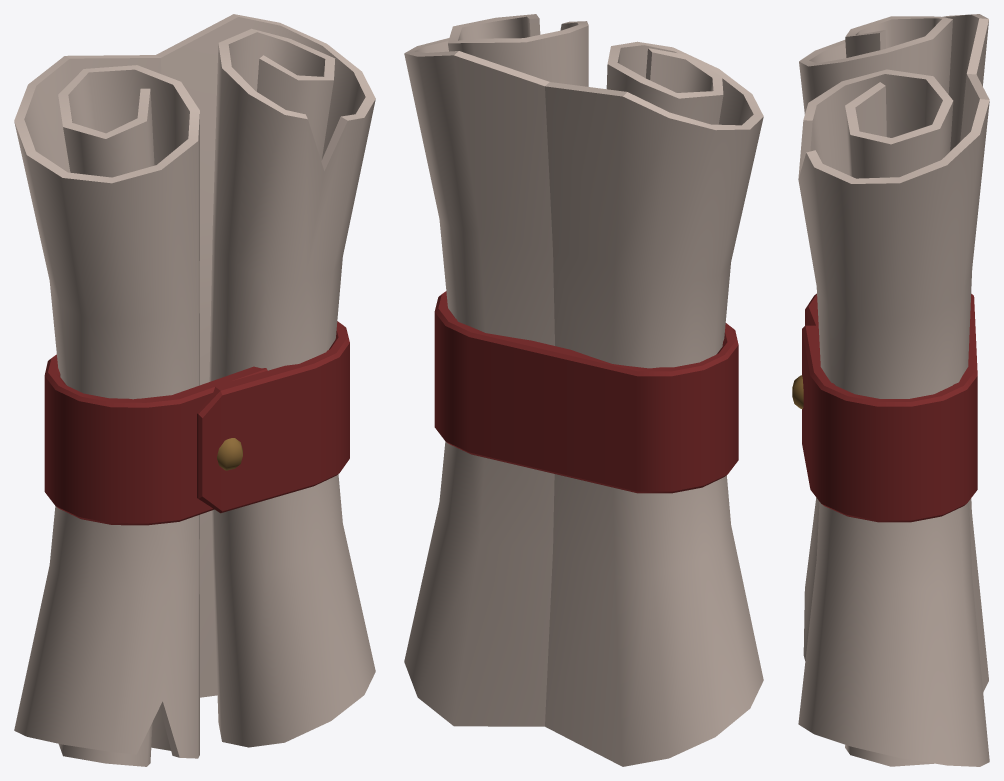
The model's file is Map_Scroll.fbx.
3 renders of one model, left to right at view 1: azimuth 30°, elevation 25°; view 2: azimuth 150°, elevation 25°; view 3: azimuth 270°, elevation 25°, orthographic.
Parts seen in each view (by area): view 1: pCylinder11; view 2: pCylinder11; view 3: pCylinder11.
Part boxes in pixels (x1=…): pCylinder11: x1=14, y1=14, x2=375, y2=766; pCylinder11: x1=404, y1=14, x2=763, y2=766; pCylinder11: x1=792, y1=14, x2=989, y2=766.
Bounding box in the file's own units: 49.99 × 97.12 × 25.99.
